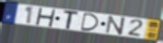1: (24, 5, 35, 25)
2: (127, 19, 144, 38)
D: (80, 12, 100, 32)
H: (35, 7, 57, 28)
N: (105, 16, 127, 36)
T: (63, 10, 80, 30)
